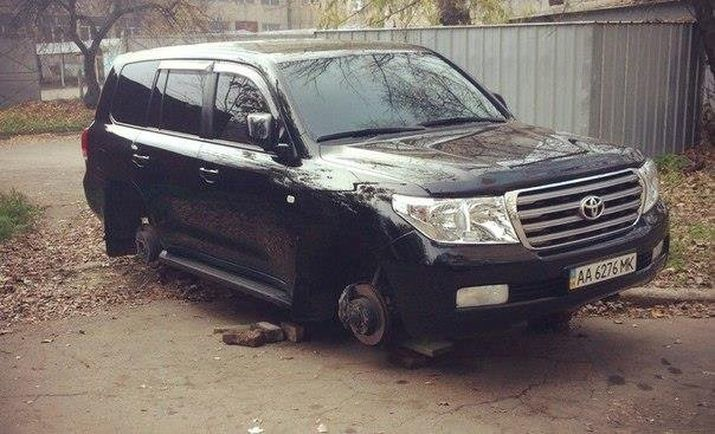car: (80, 40, 672, 351)
plate: (570, 252, 636, 292)
